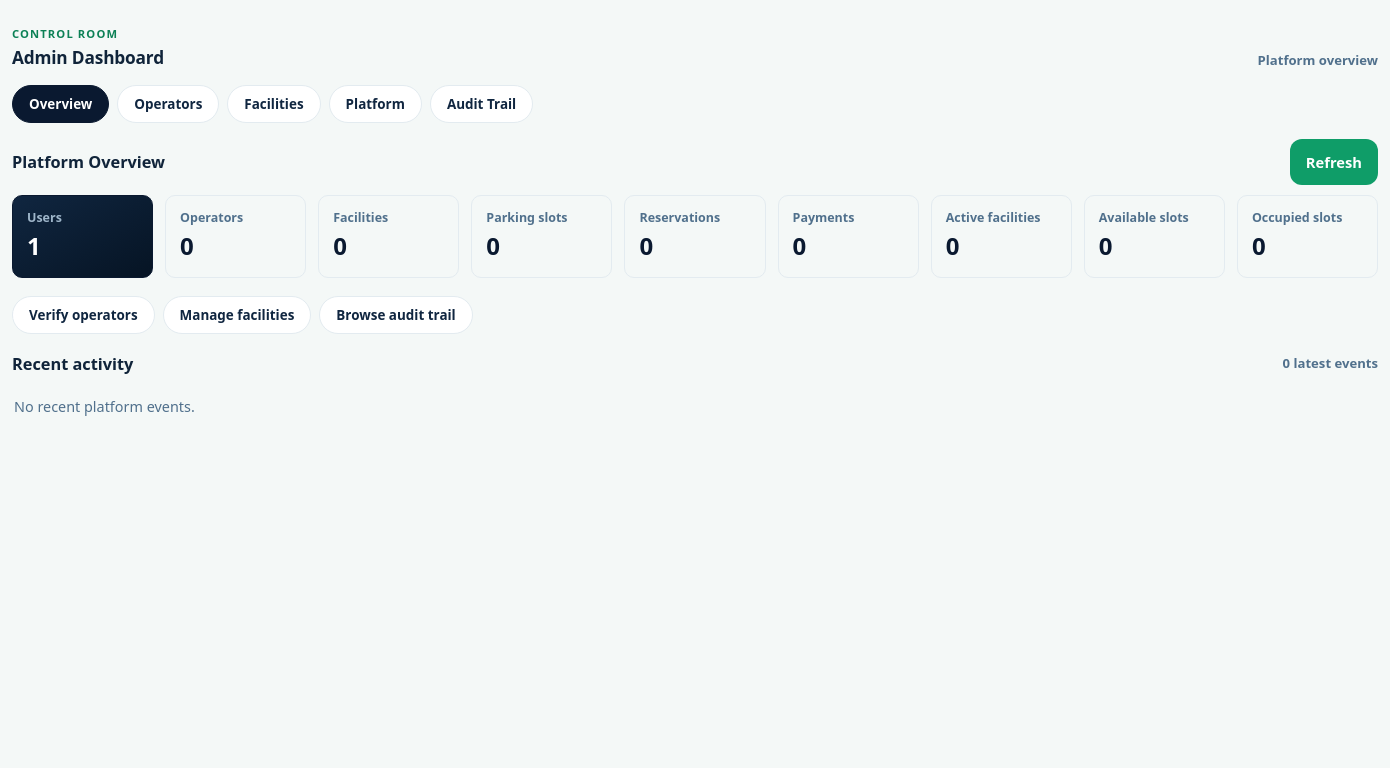
Test: AdminDashboard › loads and lists pending operators when the Operators section opens
Click the button "Operators" at (168, 104), box [117,85,219,123]
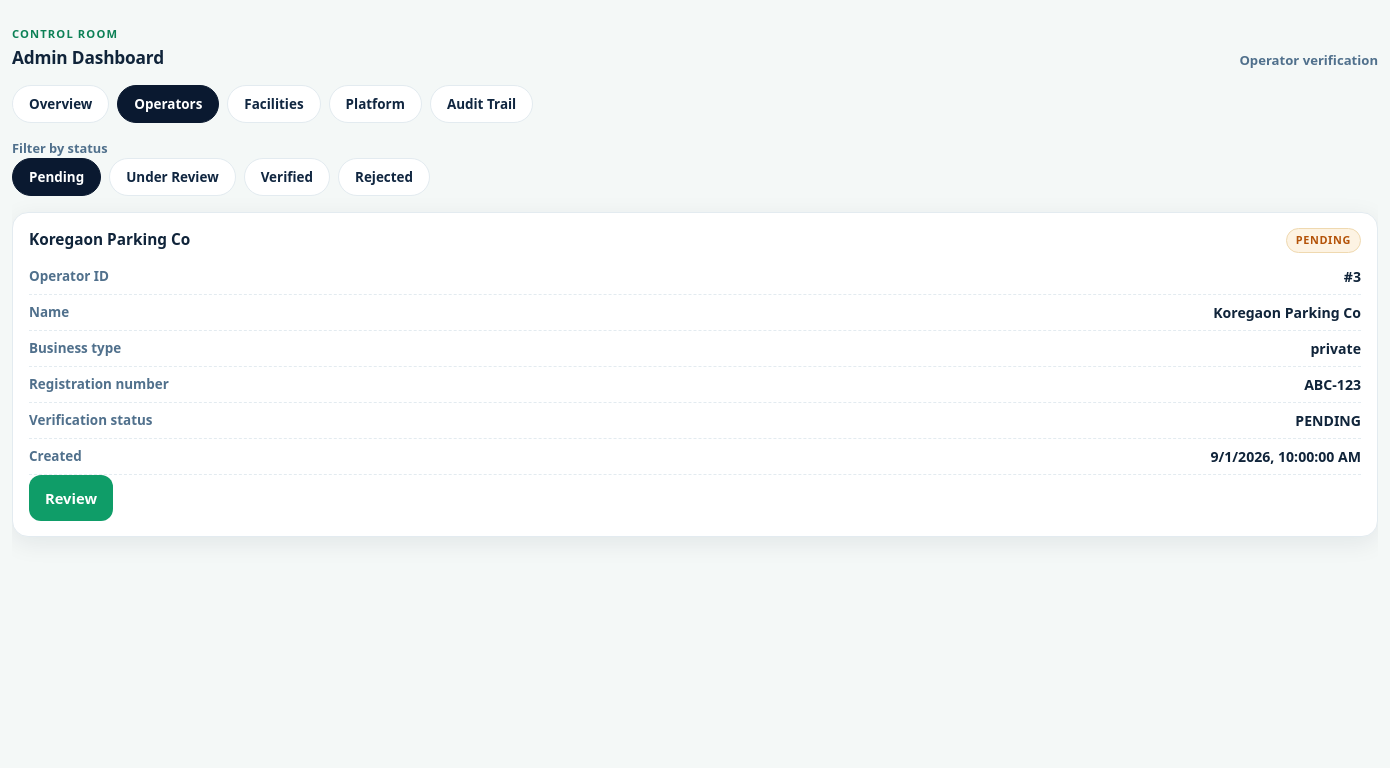
Expected: the list item with class "admin-operator-card" shows "#3", [12,212,1378,537]
Expected: the list item with class "admin-operator-card" shows "private", [1310,339,1361,358]
Expected: the list item with class "admin-operator-card" shows "ABC-123", [1304,375,1361,394]
